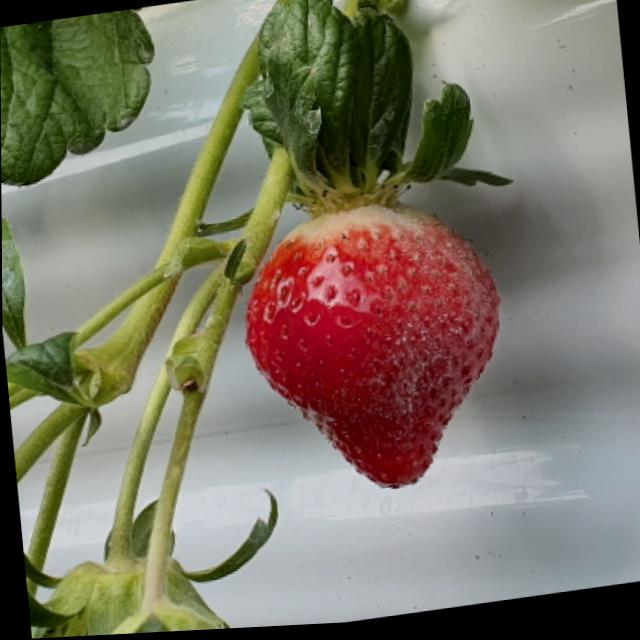Powdery Mildew Fruit: (347, 211, 500, 436)
